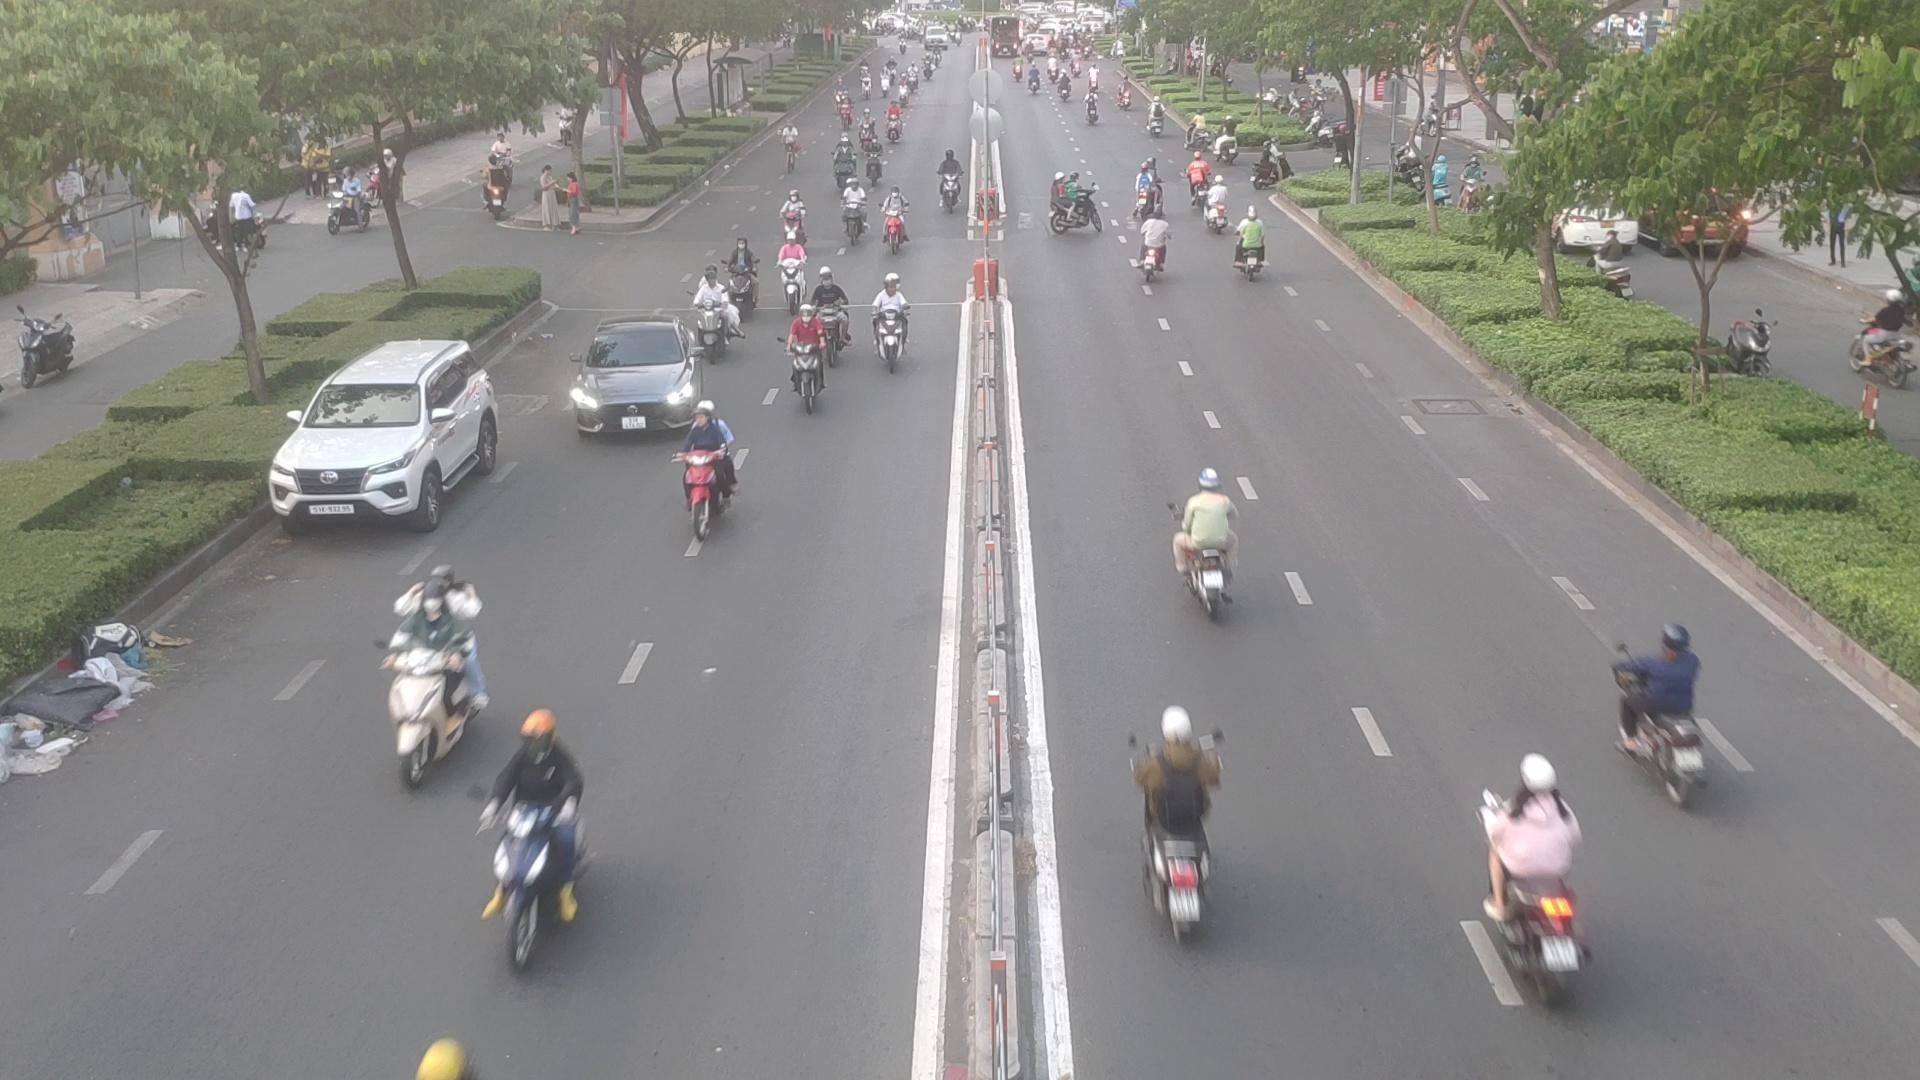car: (273, 342, 514, 531), (563, 319, 708, 436)
motorbike: (479, 709, 603, 967), (1473, 752, 1588, 975), (382, 570, 487, 774), (1614, 617, 1727, 799), (1118, 753, 1226, 943), (1174, 475, 1255, 616), (670, 405, 749, 542), (783, 307, 845, 414), (688, 280, 745, 361), (1046, 167, 1106, 240), (866, 286, 915, 372), (1232, 214, 1278, 282), (720, 237, 764, 307), (814, 272, 849, 352), (1133, 220, 1174, 284), (779, 240, 815, 298), (876, 196, 909, 255), (935, 153, 968, 208), (1197, 179, 1232, 232), (840, 185, 869, 243), (1137, 162, 1160, 220), (779, 193, 806, 243), (862, 133, 889, 183), (1185, 148, 1207, 210), (878, 104, 906, 142), (836, 137, 853, 189), (856, 112, 874, 152)
